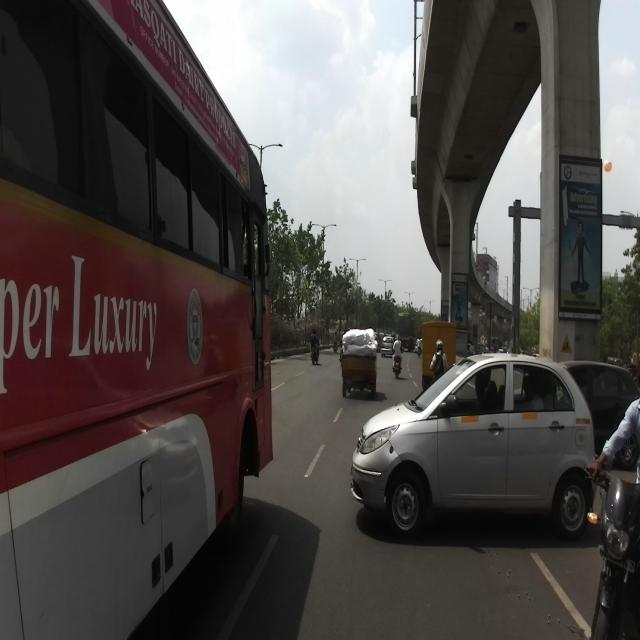Car: (556, 359, 639, 469)
Car_TATA: (350, 352, 598, 539)
bus: (0, 1, 274, 640)
motorcycle_bajaj: (584, 464, 638, 638)
